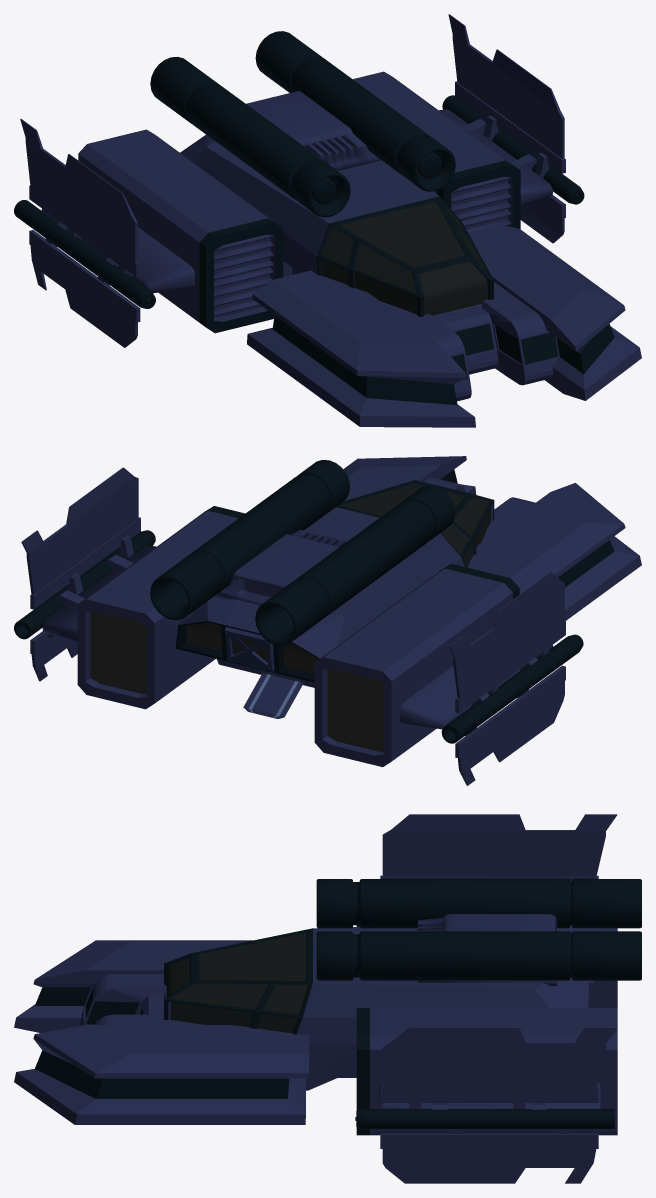
File: NaveFinal1.fbx
3 renders of one model, top to bottom at view 1: azimuth 30°, elevation 25°; view 2: azimuth 150°, elevation 25°; view 3: azimuth 270°, elevation 25°, orthographic. The views are drawn at different scales.
Parts seen in each view (by area): view 1: Cubo.001, Cubo.006; view 2: Cubo.001, Cubo.006; view 3: Cubo.001, Cubo.006.
Boxes of the visible parts, x1,y1,x2,y2 form: Cubo.001: [14, 14, 641, 427]; Cubo.006: [292, 268, 559, 401]; Cubo.001: [14, 456, 641, 785]; Cubo.006: [217, 477, 535, 718]; Cubo.001: [14, 814, 641, 1183]; Cubo.006: [80, 974, 356, 1090].
Size of the model in its own units: 25152 by 8981 by 30123.
